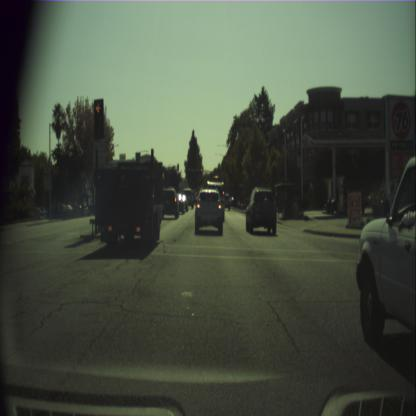Red: (188, 167, 190, 174)
RedLeft: (94, 98, 103, 138)
Yellow: (200, 167, 202, 174)
off: (177, 163, 179, 171)
